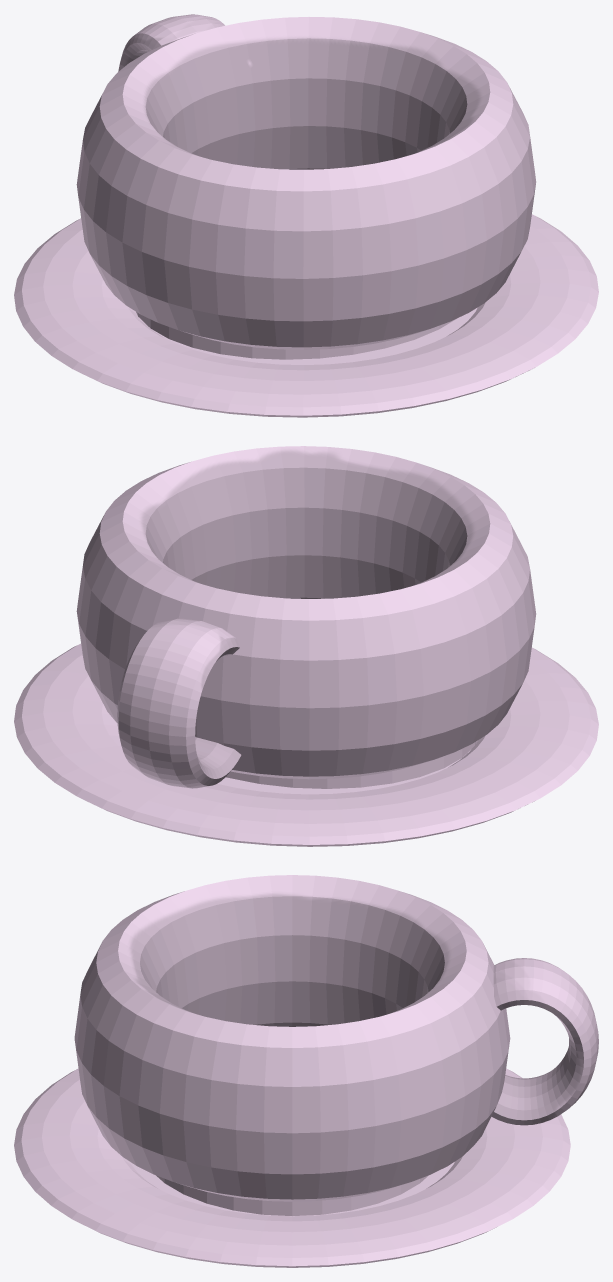
The model's file is filizanka.glb.
The picture shows the model from 3 angles, top to bottom: view 1: azimuth 30°, elevation 25°; view 2: azimuth 150°, elevation 25°; view 3: azimuth 270°, elevation 25°; orthographic projection. The views are drawn at different scales.
Parts seen in each view (by area): view 1: Torus, Torus.002, Cylinder.001, Torus.003, Cylinder; view 2: Torus, Torus.002, Torus.003, Cylinder.001, Cylinder; view 3: Torus, Torus.002, Torus.003, Cylinder.001, Cylinder.
Part boxes in pixels (box(x1,y1,x2,y2)): Torus: box(76, 17, 536, 349); Torus.002: box(14, 214, 598, 417); Cylinder.001: box(136, 312, 455, 359); Torus.003: box(118, 14, 224, 71); Cylinder: box(136, 307, 477, 364); Torus: box(76, 446, 536, 779); Torus.002: box(14, 643, 598, 846); Torus.003: box(117, 618, 241, 788); Cylinder.001: box(226, 741, 476, 788); Cylinder: box(217, 741, 476, 794); Torus: box(74, 875, 510, 1201); Torus.002: box(14, 1068, 570, 1267); Torus.003: box(491, 958, 598, 1125); Cylinder.001: box(156, 1175, 428, 1215); Cylinder: box(130, 1162, 454, 1216).
Bounding box in the file's own units: 3.28 × 1.34 × 3.36.
Materials: 5 (5 with a texture image).
